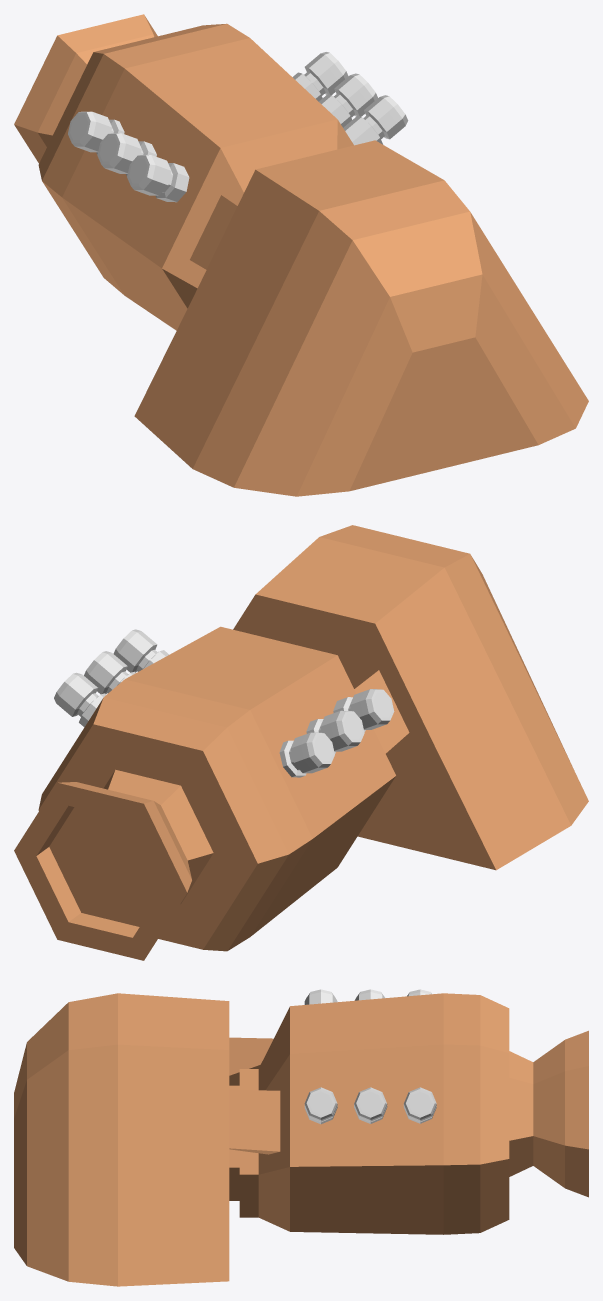
The model's file is engine.fbx.
The picture shows the model from 3 angles, top to bottom: view 1: azimuth 30°, elevation 25°; view 2: azimuth 150°, elevation 25°; view 3: azimuth 270°, elevation 25°; orthographic projection. The views are drawn at different scales.
Parts seen in each view (by area): view 1: Cube.002, Cylinder; view 2: Cube.002, Cylinder; view 3: Cube.002, Cylinder.
Part boxes in pixels (x1,y1,x2,y2): Cube.002: (14,14,588,496); Cylinder: (68,52,408,202); Cube.002: (14,525,588,960); Cylinder: (54,629,394,777); Cube.002: (14,993,588,1286); Cylinder: (304,989,436,1124).
Size of the model in its own units: 123 by 70.34 by 193.
